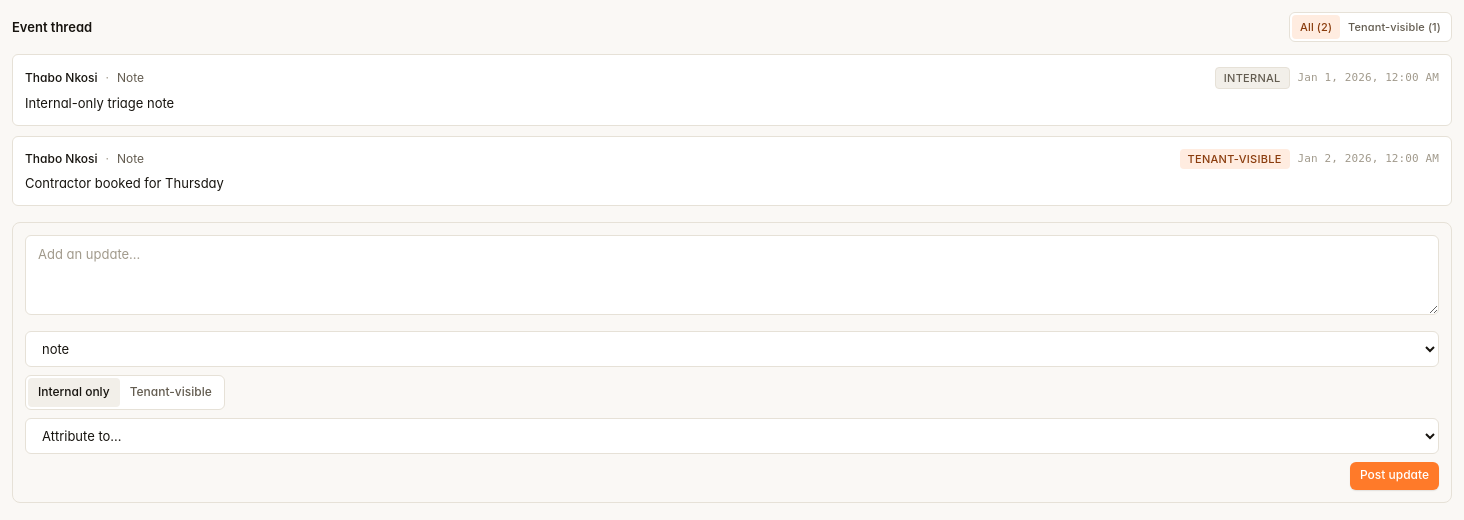
Test: EventThread › the tenant-visible filter hides internal-only events — this is the tenant's view
The image size is (1464, 520).
What coordinates should you click on to do the following:
click the button "Tenant-visible (1)"
I would click on:
 (1395, 27)
Its box is [1340,15,1449,39].
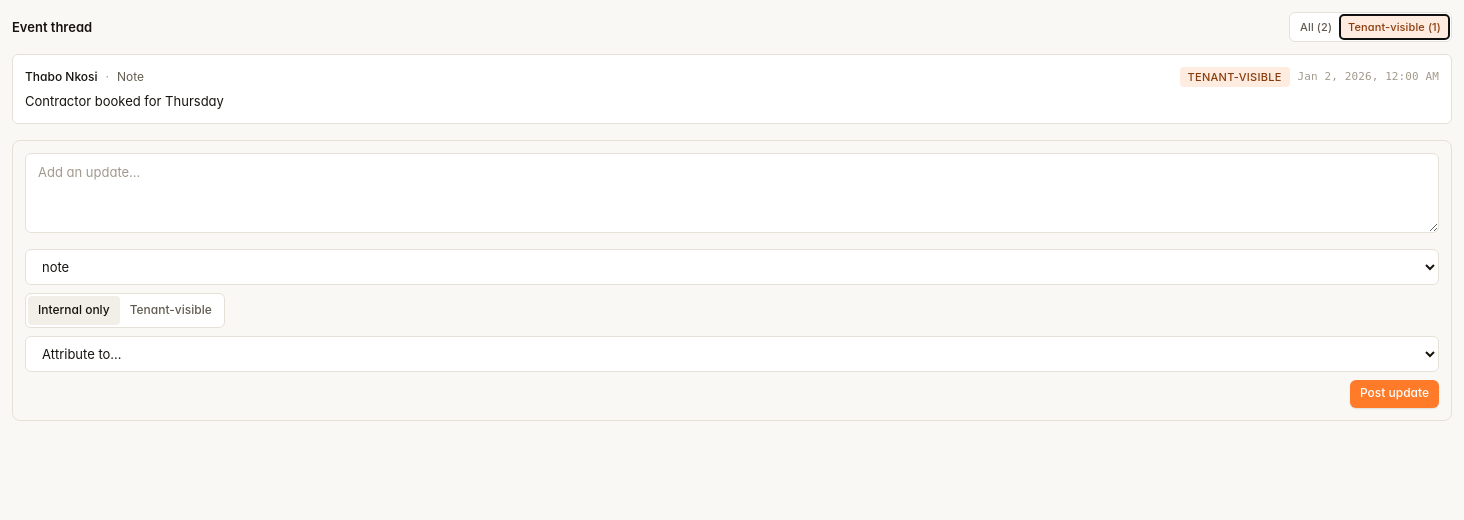
Expected: the text "Contractor booked for Thursday" is shown, [25,93,224,109]
Expected: the text "Internal-only triage note" is gone
